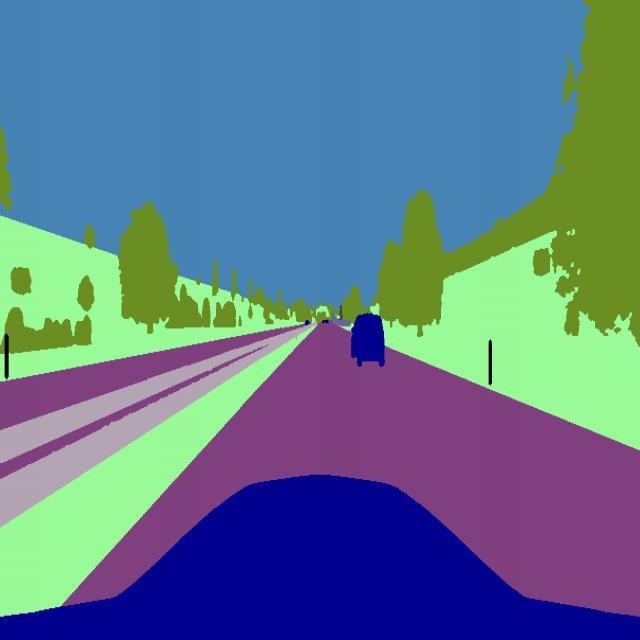safe: (345, 310, 388, 371)
